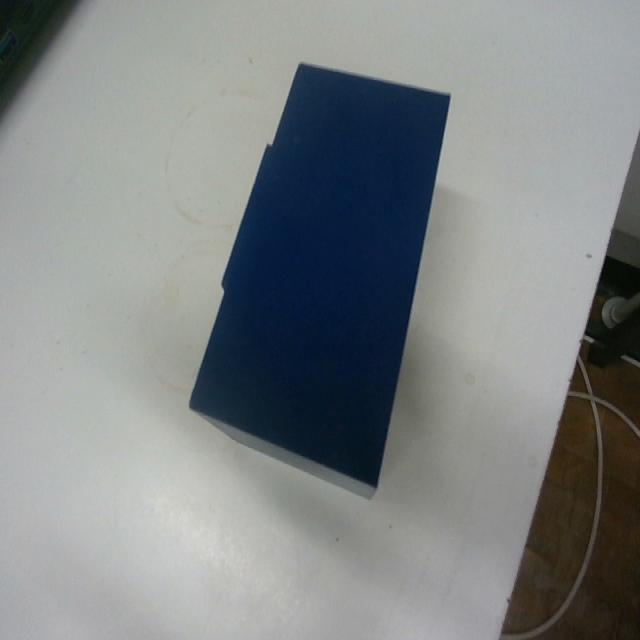Blue Cuboid: (187, 59, 451, 498)
